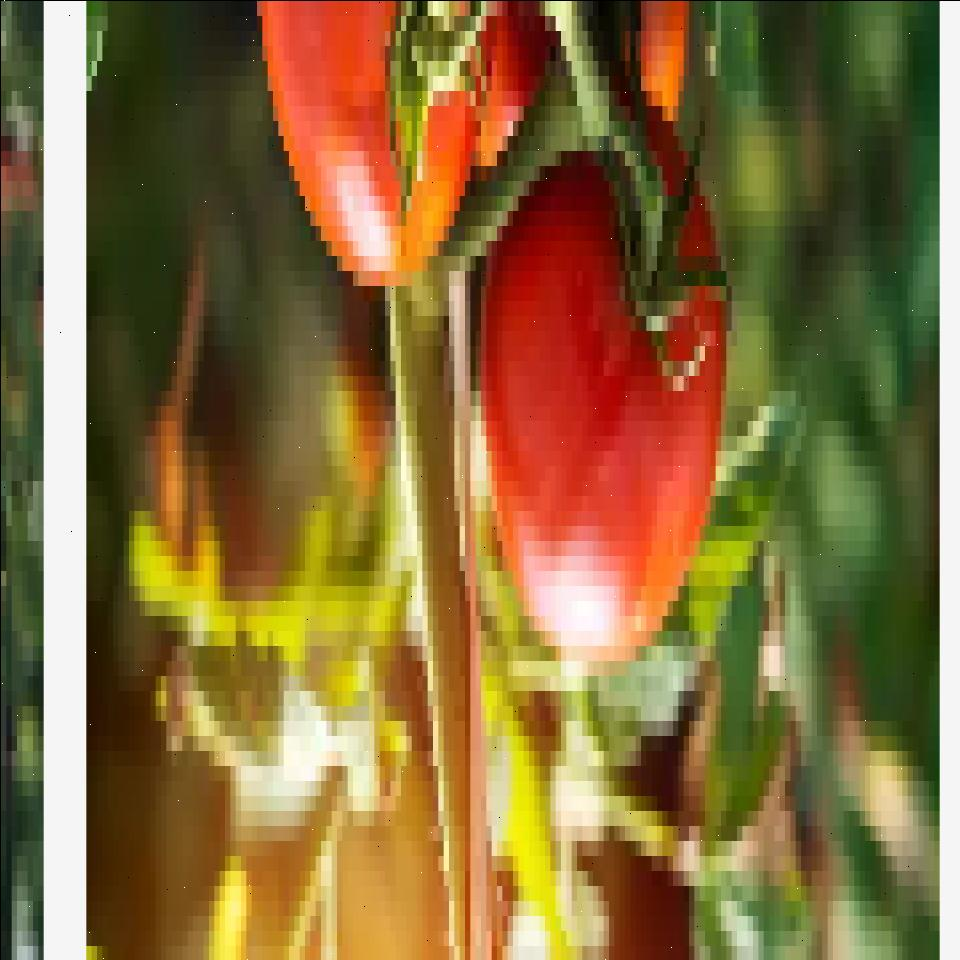Healthy: (478, 129, 730, 669), (235, 0, 502, 330)
